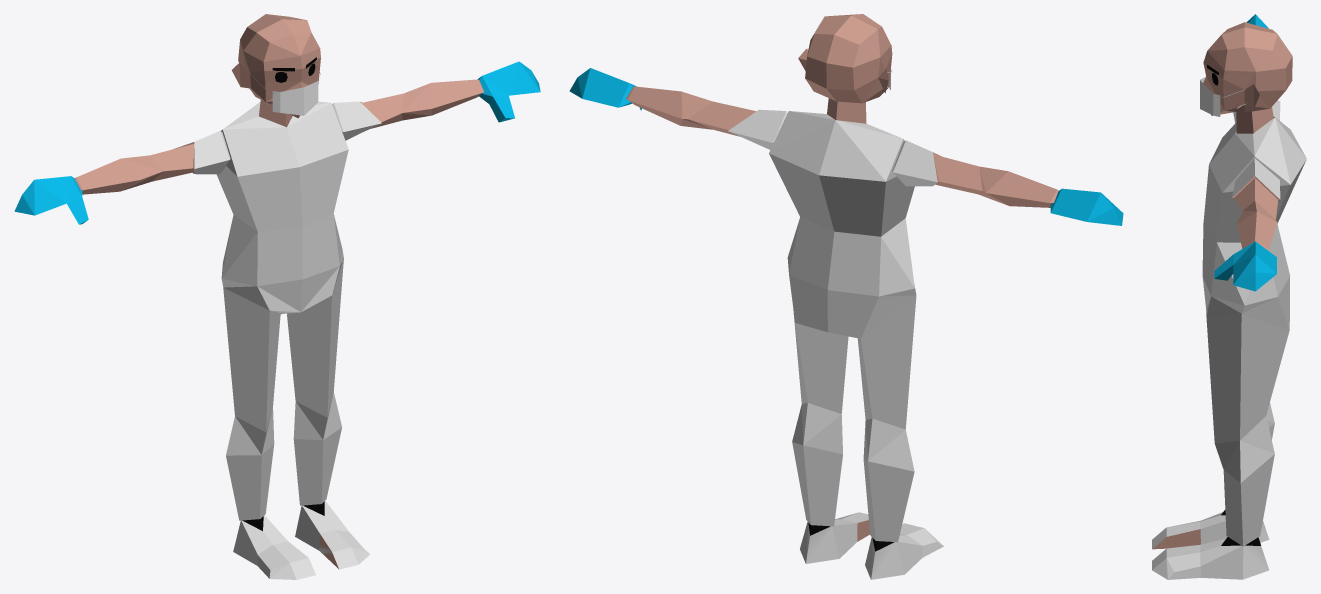
The model's file is Cientista_Homem.fbx.
The picture shows the model from 3 angles, left to right: view 1: azimuth 30°, elevation 25°; view 2: azimuth 150°, elevation 25°; view 3: azimuth 270°, elevation 25°; orthographic projection. The views are drawn at different scales.
Parts seen in each view (by area): view 1: Cientita_Homi; view 2: Cientita_Homi; view 3: Cientita_Homi.
Boxes of the visible parts, x1,y1,x2,y2 form: Cientita_Homi: (14, 14, 540, 579); Cientita_Homi: (569, 14, 1123, 579); Cientita_Homi: (1152, 14, 1306, 579).
Bounding box in the file's own units: 3830 × 3625 × 964.
